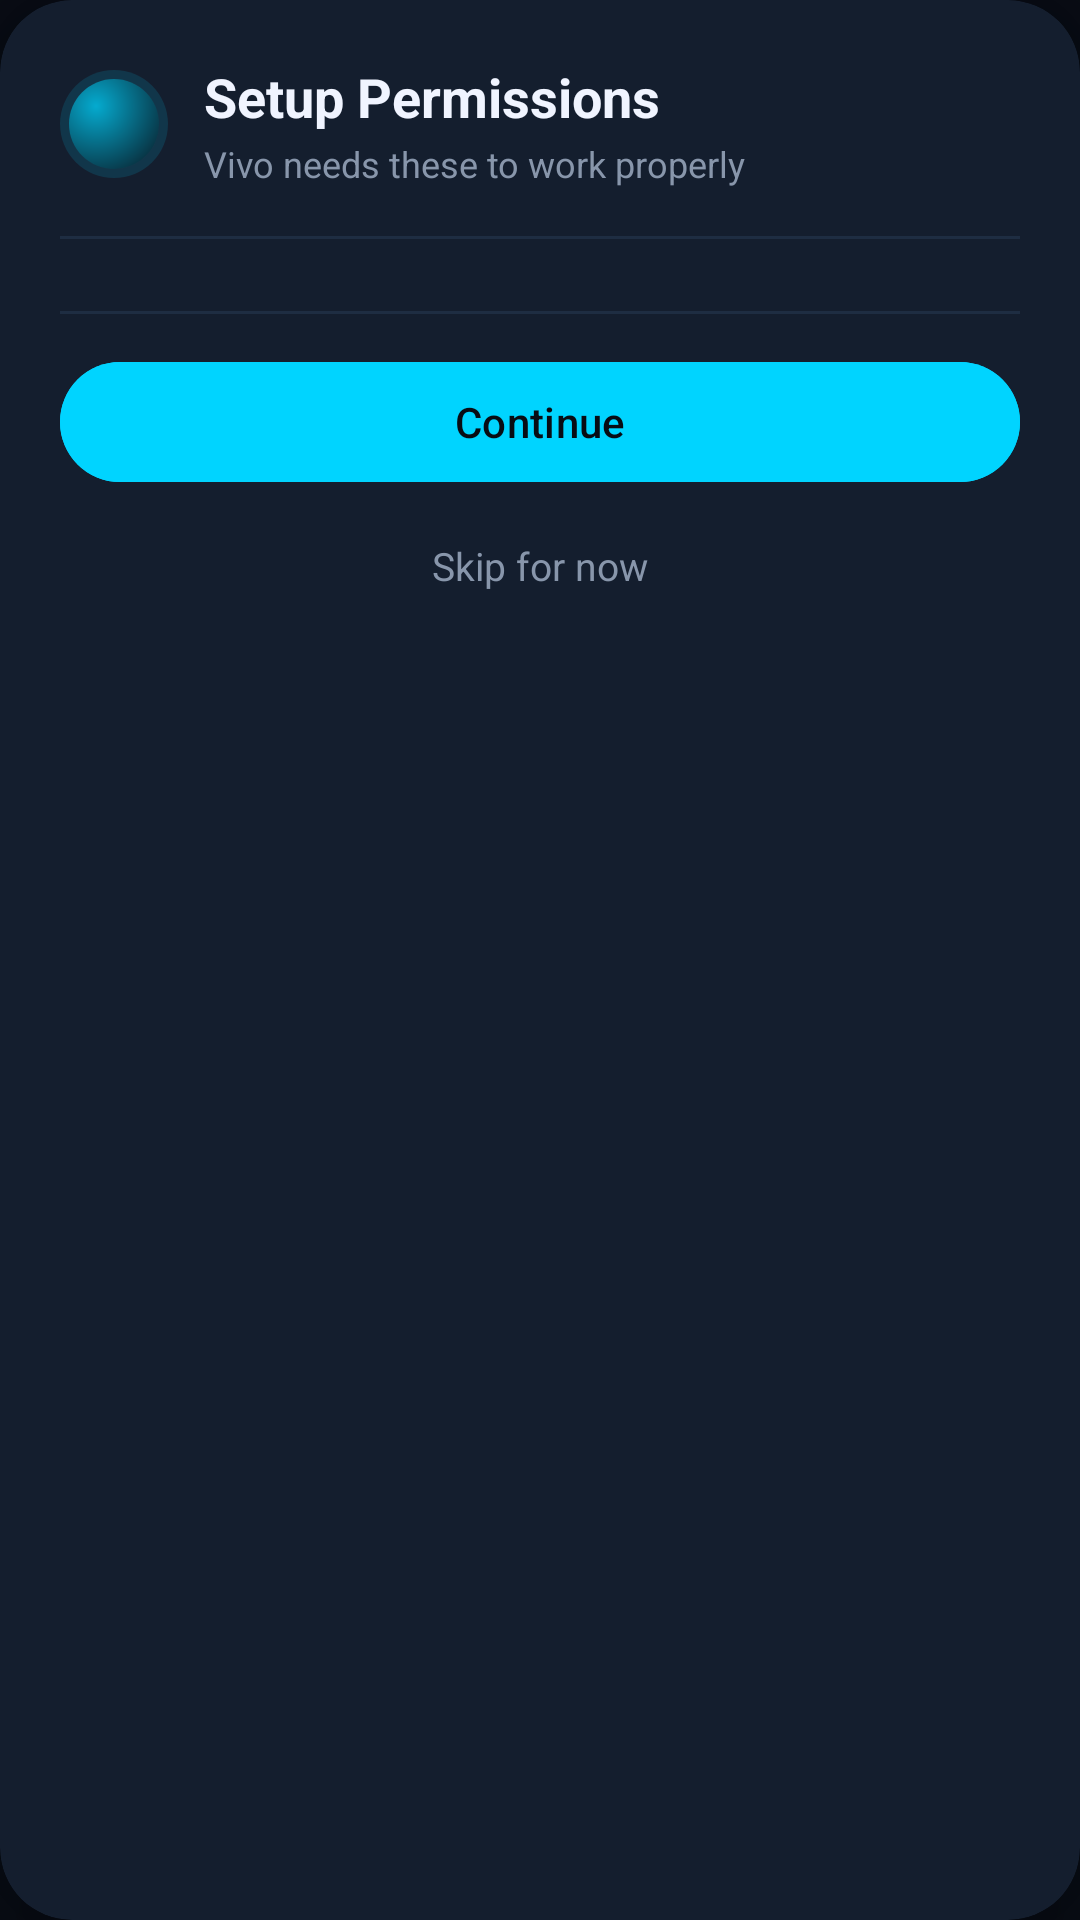

Named icons in this screenshot (1080 × 1920) and their centers, (x=x, y=y):
orb mini: (x=114, y=124)
